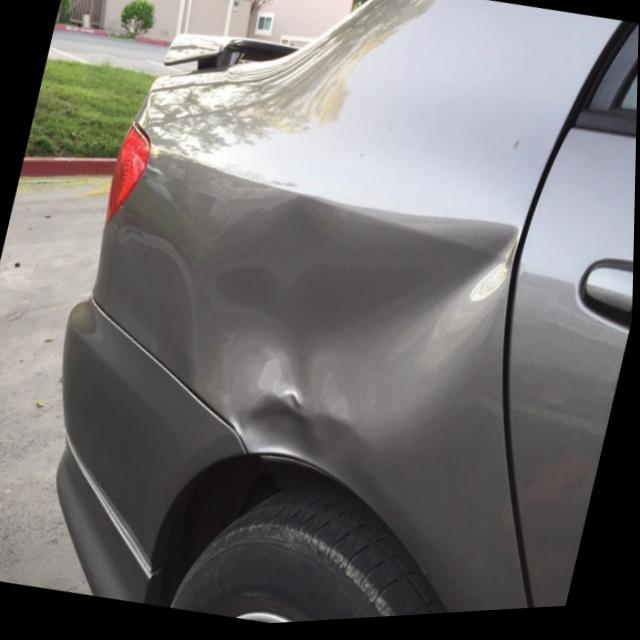Dent: (183, 135, 536, 507)
